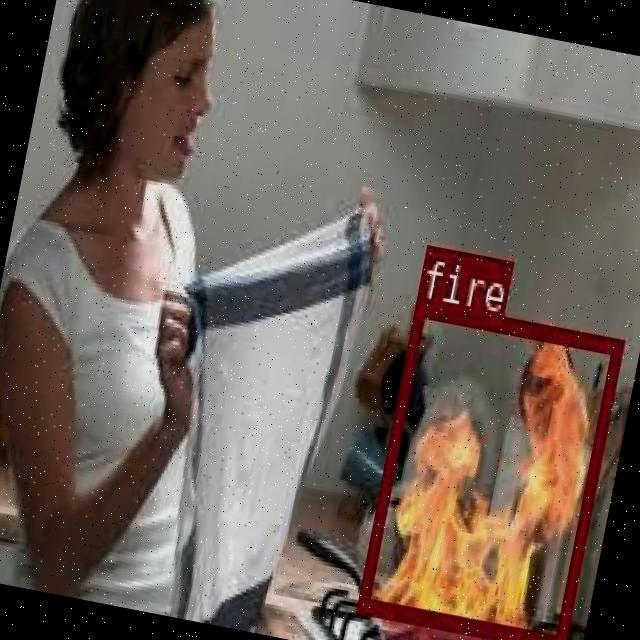fire: (356, 298, 622, 640)
